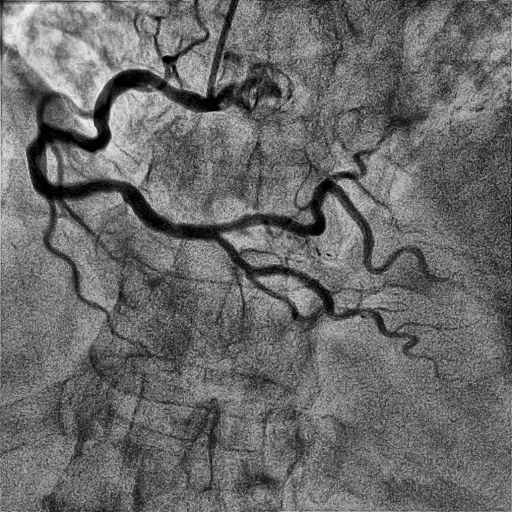pborca: (217, 179, 447, 282)
pda: (217, 236, 441, 378)
rca: (27, 69, 220, 242)
